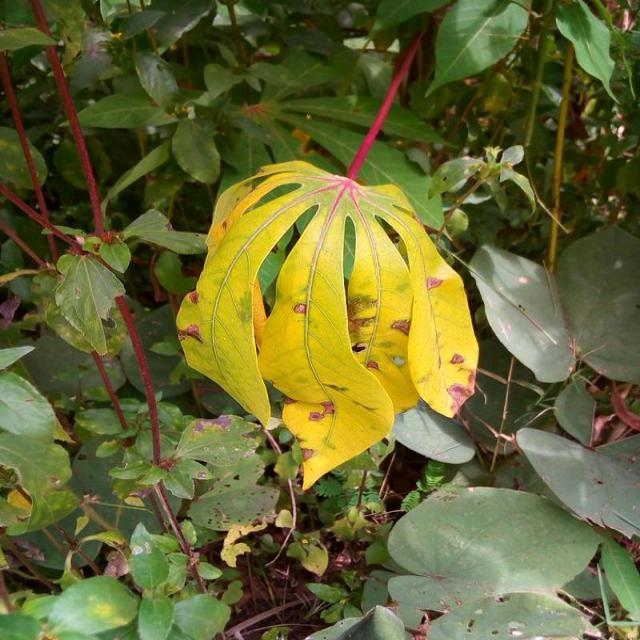cassava leaf: (175, 158, 480, 491)
